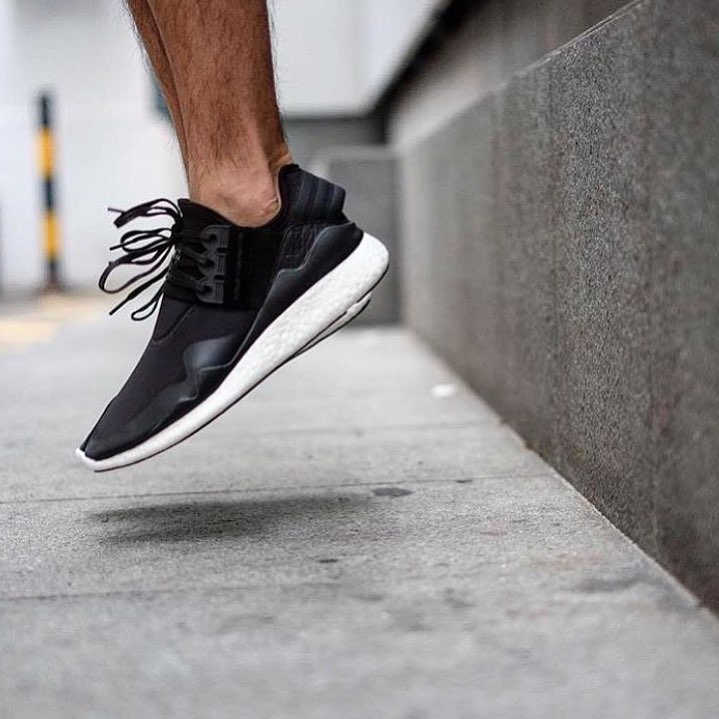sneaker: (58, 156, 414, 512)
